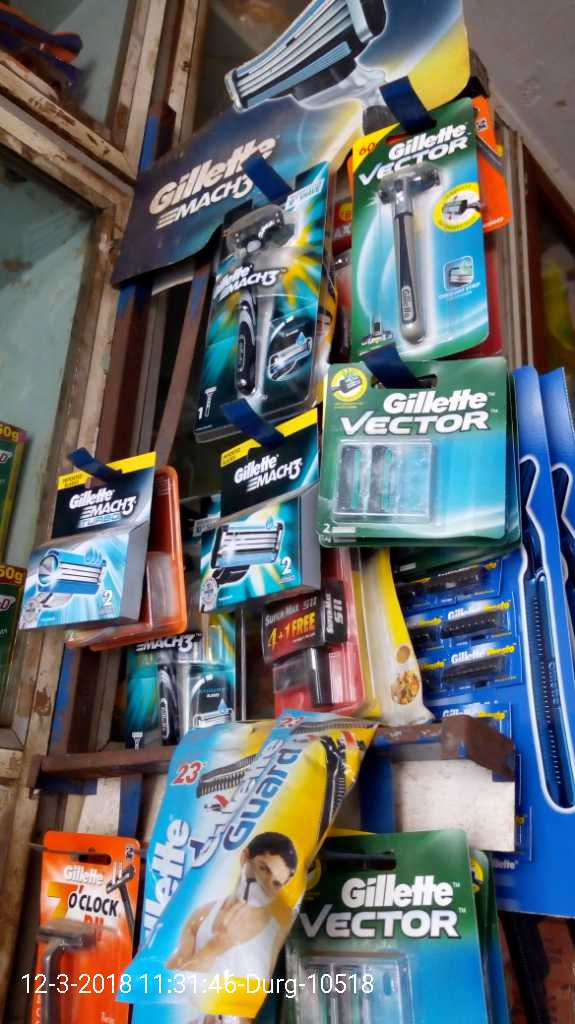gillette: (348, 117, 477, 347), (325, 360, 489, 527), (208, 189, 297, 382), (34, 469, 147, 613), (202, 442, 300, 594)
